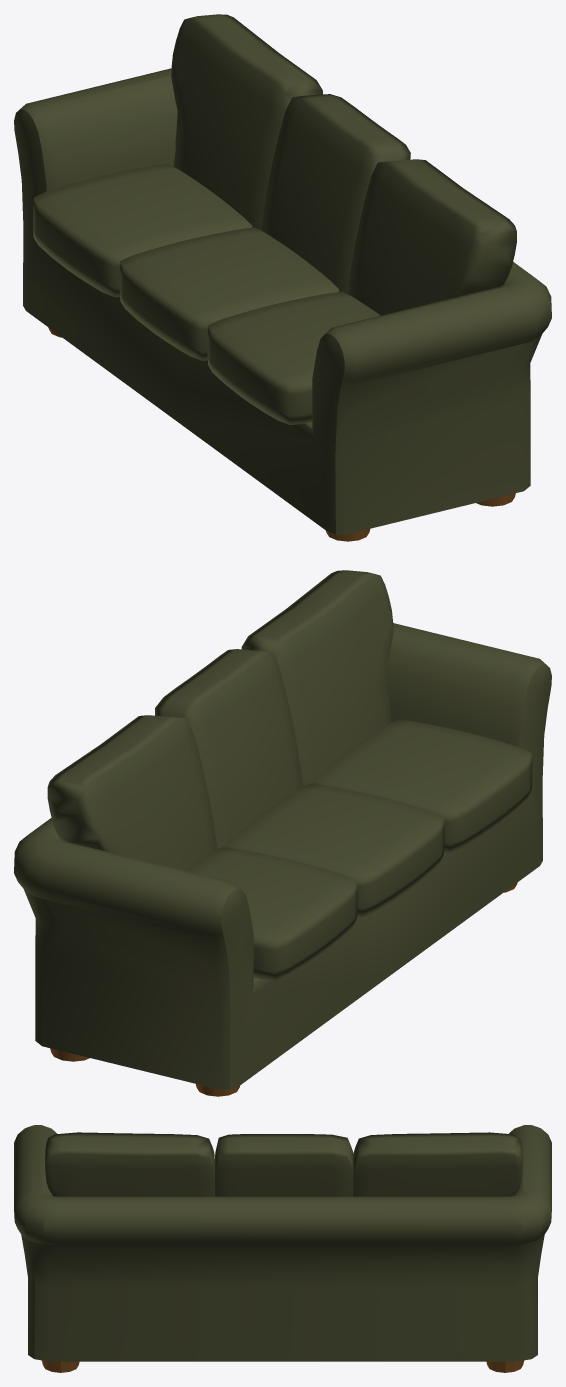
Rendered from decor_sofa.fbx.
3 renders of one model, top to bottom at view 1: azimuth 30°, elevation 25°; view 2: azimuth 150°, elevation 25°; view 3: azimuth 270°, elevation 25°, orthographic. The views are drawn at different scales.
Parts seen in each view (by area): view 1: furniture_sofa, Pillow.034, Pillow.033, Pillow.032, Pillow.001, Pillow.002, Pillow.029; view 2: furniture_sofa, Pillow.033, Pillow.034, Pillow.032, Pillow.029, Pillow.001, Pillow.002; view 3: furniture_sofa, Pillow.034, Pillow.033, Pillow.032.
Part boxes in pixels (bbox=[...]): furniture_sofa: bbox=[14, 68, 551, 541]; Pillow.034: bbox=[171, 14, 322, 230]; Pillow.033: bbox=[347, 159, 516, 315]; Pillow.032: bbox=[261, 94, 410, 293]; Pillow.001: bbox=[119, 227, 339, 360]; Pillow.002: bbox=[33, 164, 252, 297]; Pillow.029: bbox=[207, 291, 380, 424]; furniture_sofa: bbox=[14, 623, 551, 1096]; Pillow.033: bbox=[241, 570, 393, 786]; Pillow.034: bbox=[47, 715, 217, 870]; Pillow.032: bbox=[155, 649, 303, 849]; Pillow.029: bbox=[313, 719, 532, 852]; Pillow.001: bbox=[225, 783, 444, 916]; Pillow.002: bbox=[185, 847, 357, 980]; furniture_sofa: bbox=[14, 1125, 551, 1372]; Pillow.034: bbox=[353, 1132, 522, 1196]; Pillow.033: bbox=[45, 1132, 214, 1196]; Pillow.032: bbox=[215, 1134, 353, 1196].
Bounding box in the file's own units: 106 × 113 × 247.
